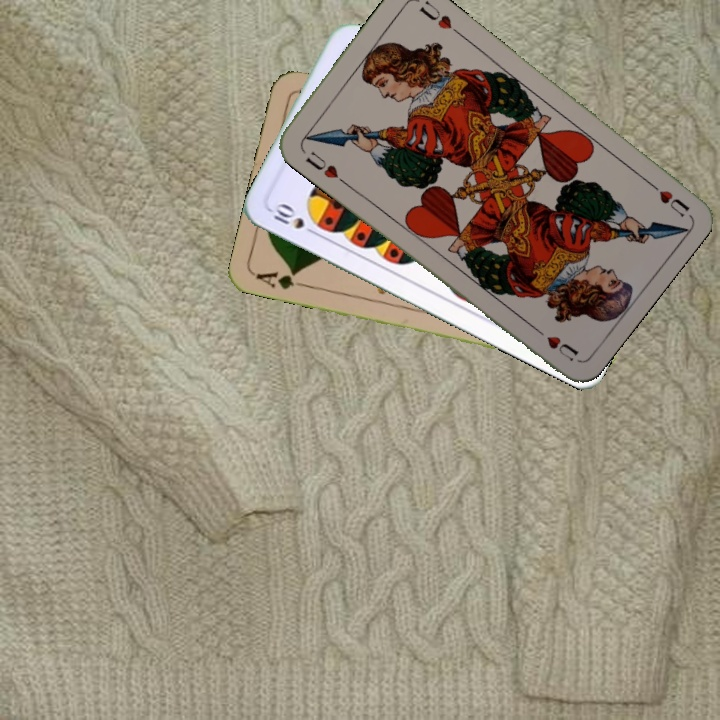GA: (252, 267, 311, 293)
HU: (641, 175, 692, 220), (301, 146, 348, 186)
S10: (266, 199, 321, 239)
